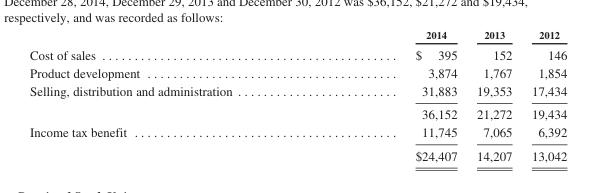table: (28, 28, 566, 162)
table column: (28, 28, 323, 162), (323, 28, 466, 162), (466, 28, 521, 162), (521, 28, 566, 162)
table column header: (28, 28, 566, 43)
table row: (28, 81, 566, 102), (28, 122, 566, 143), (28, 43, 566, 63), (28, 102, 566, 122), (28, 143, 566, 162), (28, 63, 566, 81), (28, 28, 566, 43)
